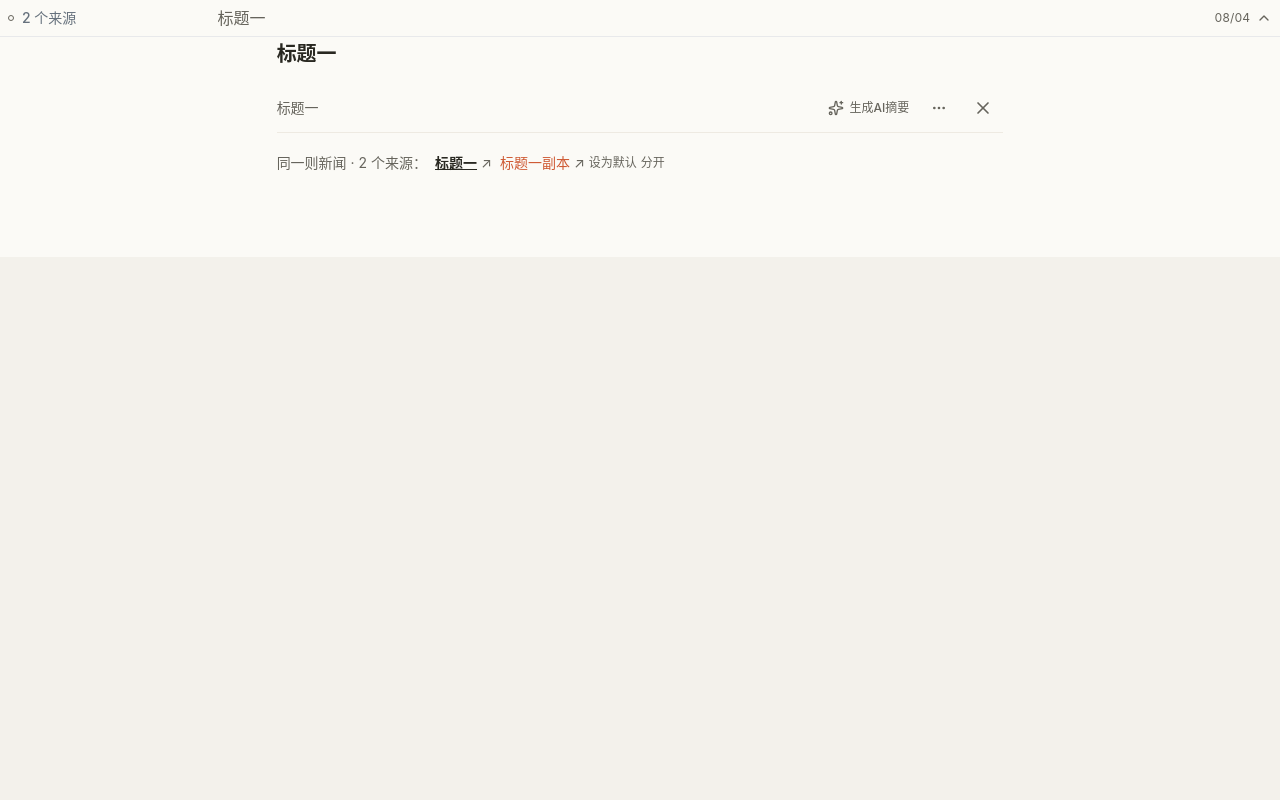
Test case: StoryListItem › opens the merge resolution dialog on a 409 conflict
Press the mouse on the button named "更多操作" at (939, 108), box [919,88,959,128]
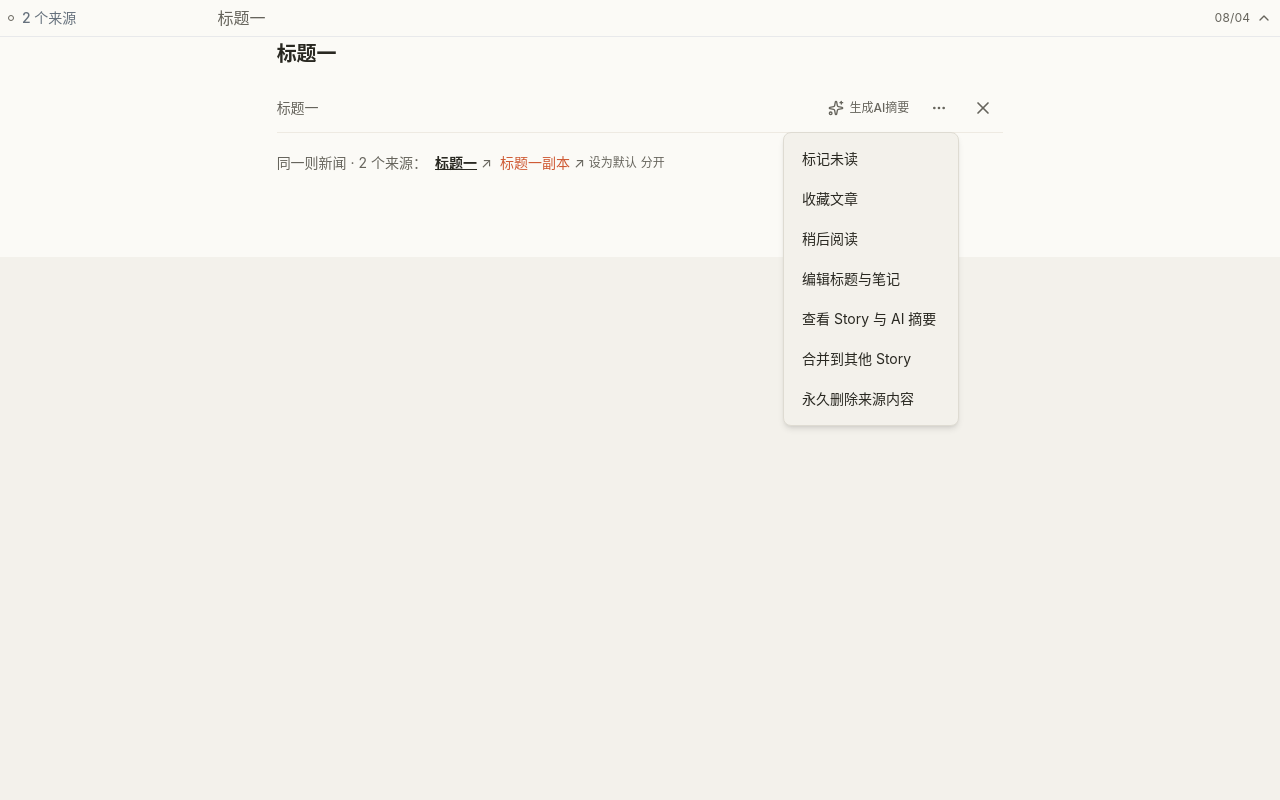
Click the menu item "合并到其他 Story" at (857, 358), box [802,350,911,367]
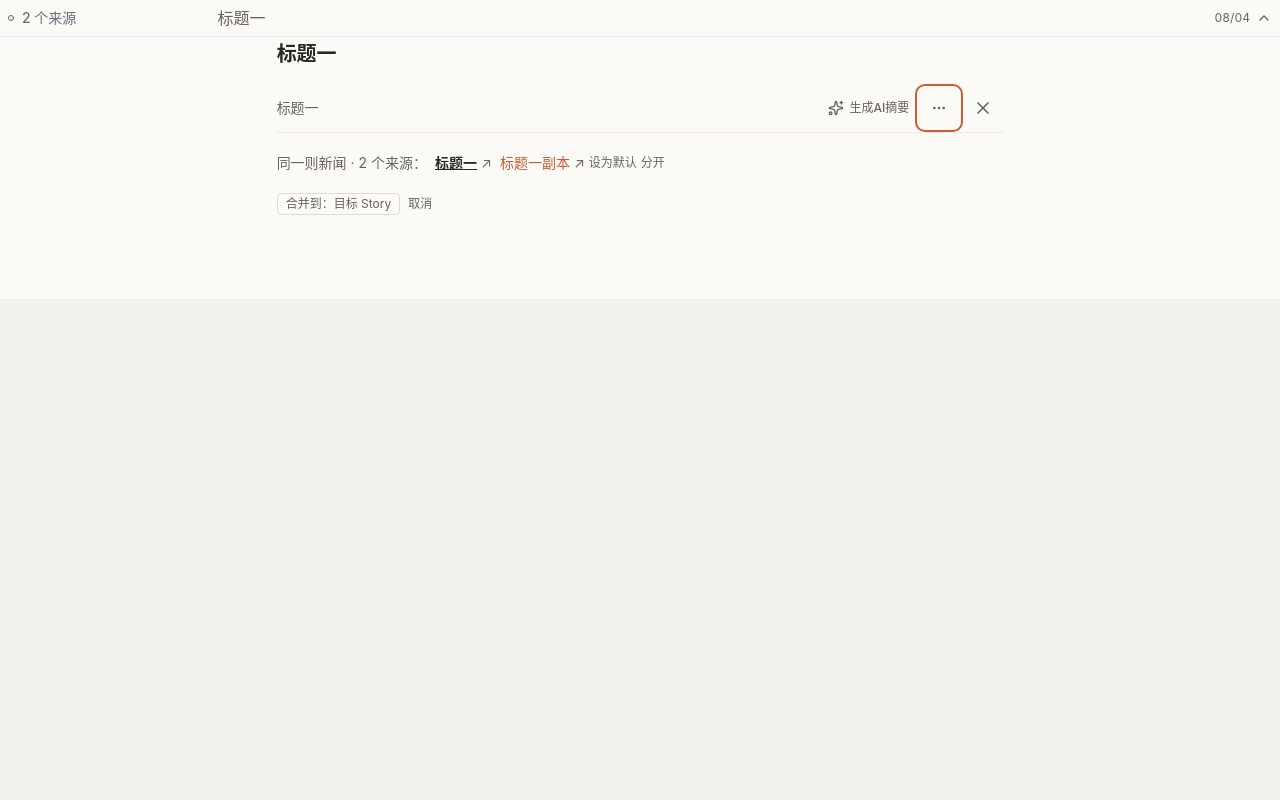
Click the button "合并到：目标 Story" at (338, 204), box [277,192,400,214]
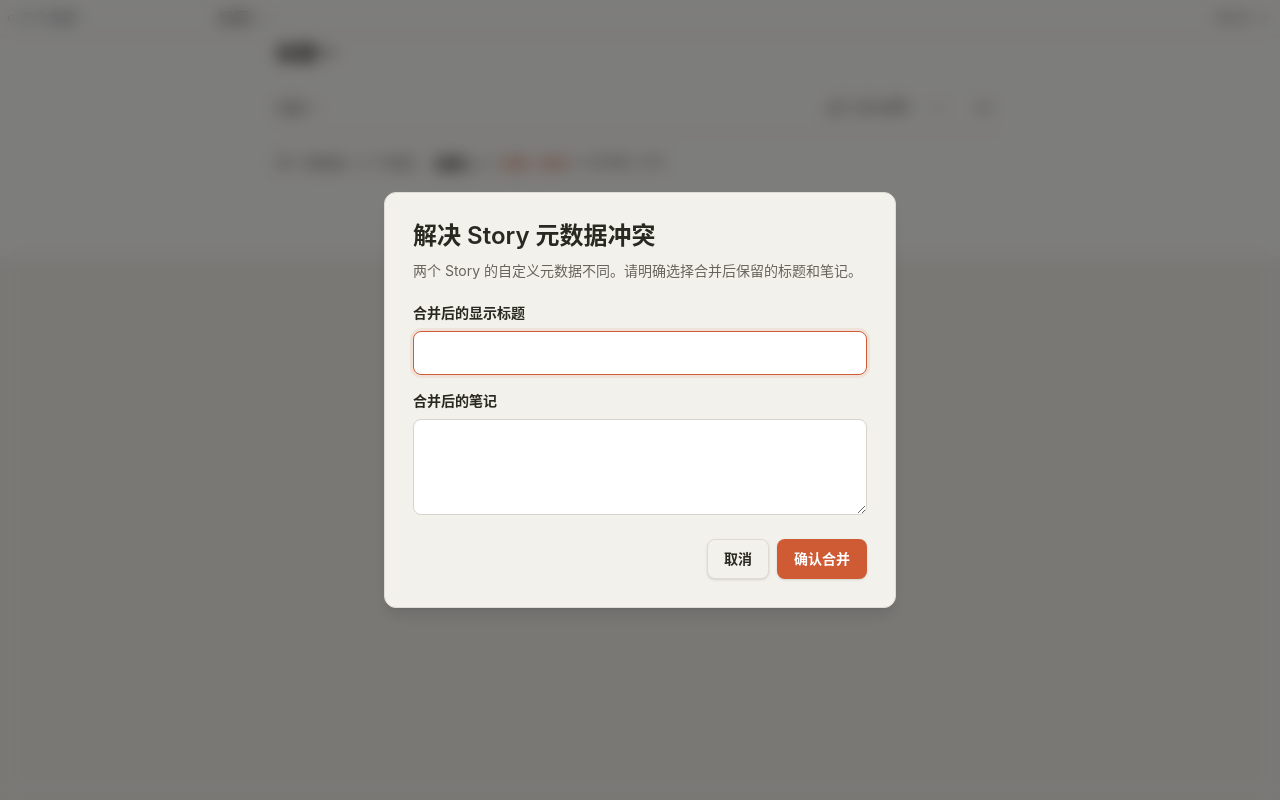
Expected: the dialog "解决 Story 元数据冲突" is shown, [384,192,896,608]
